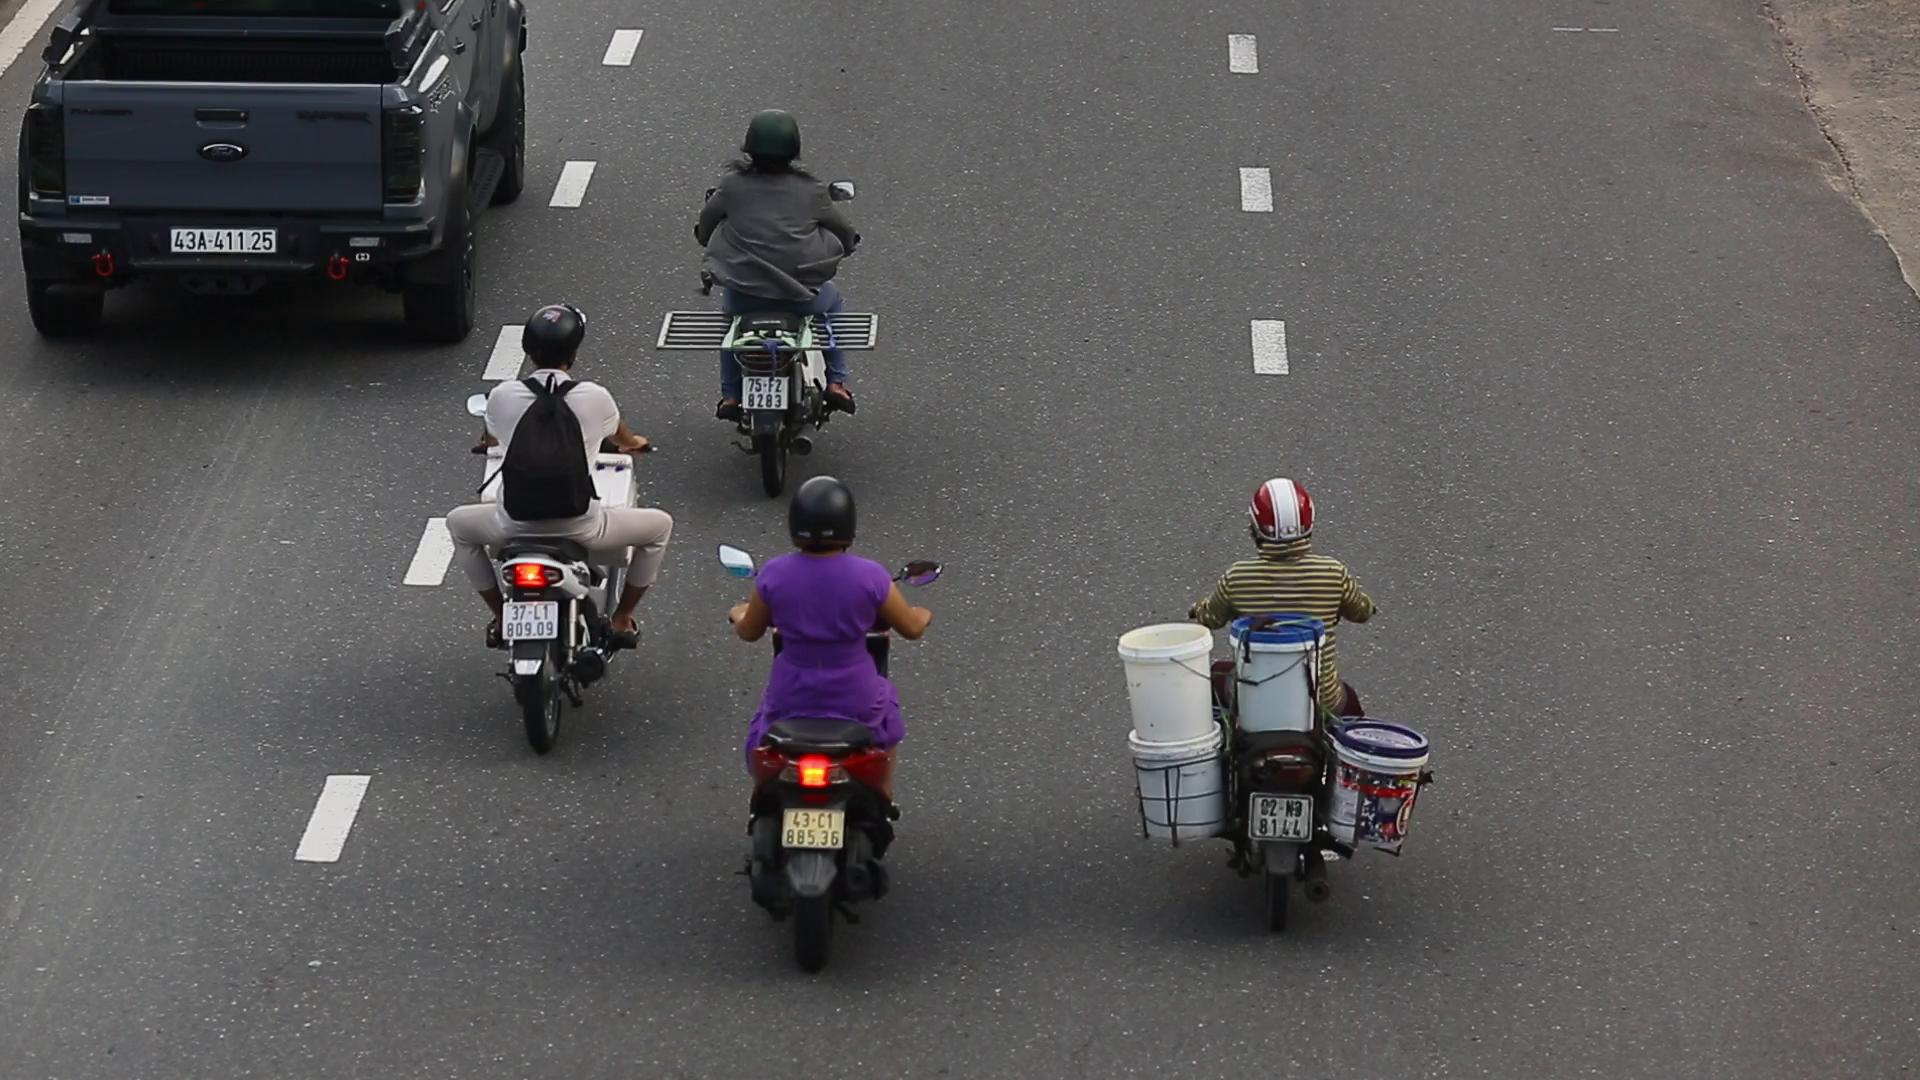motobike: (1109, 468, 1445, 939), (711, 468, 942, 982), (442, 289, 676, 754), (674, 104, 891, 491)
